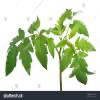Tomato leaf: (19, 37, 40, 85), (72, 49, 91, 89), (35, 30, 51, 74), (74, 35, 99, 60), (5, 42, 21, 78), (55, 8, 71, 40), (66, 18, 82, 46), (60, 46, 74, 74)
